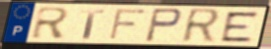E: (219, 10, 261, 43)
F: (107, 7, 149, 41)
P: (143, 7, 184, 43)
R: (179, 7, 223, 45), (30, 6, 73, 40)
T: (79, 8, 106, 40)
